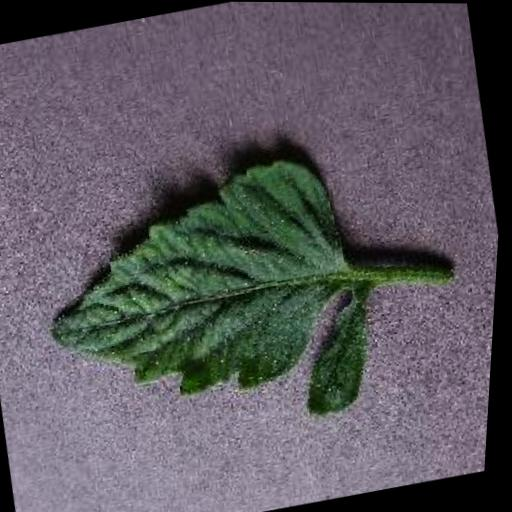Mosaic Virus: (19, 140, 397, 464)
